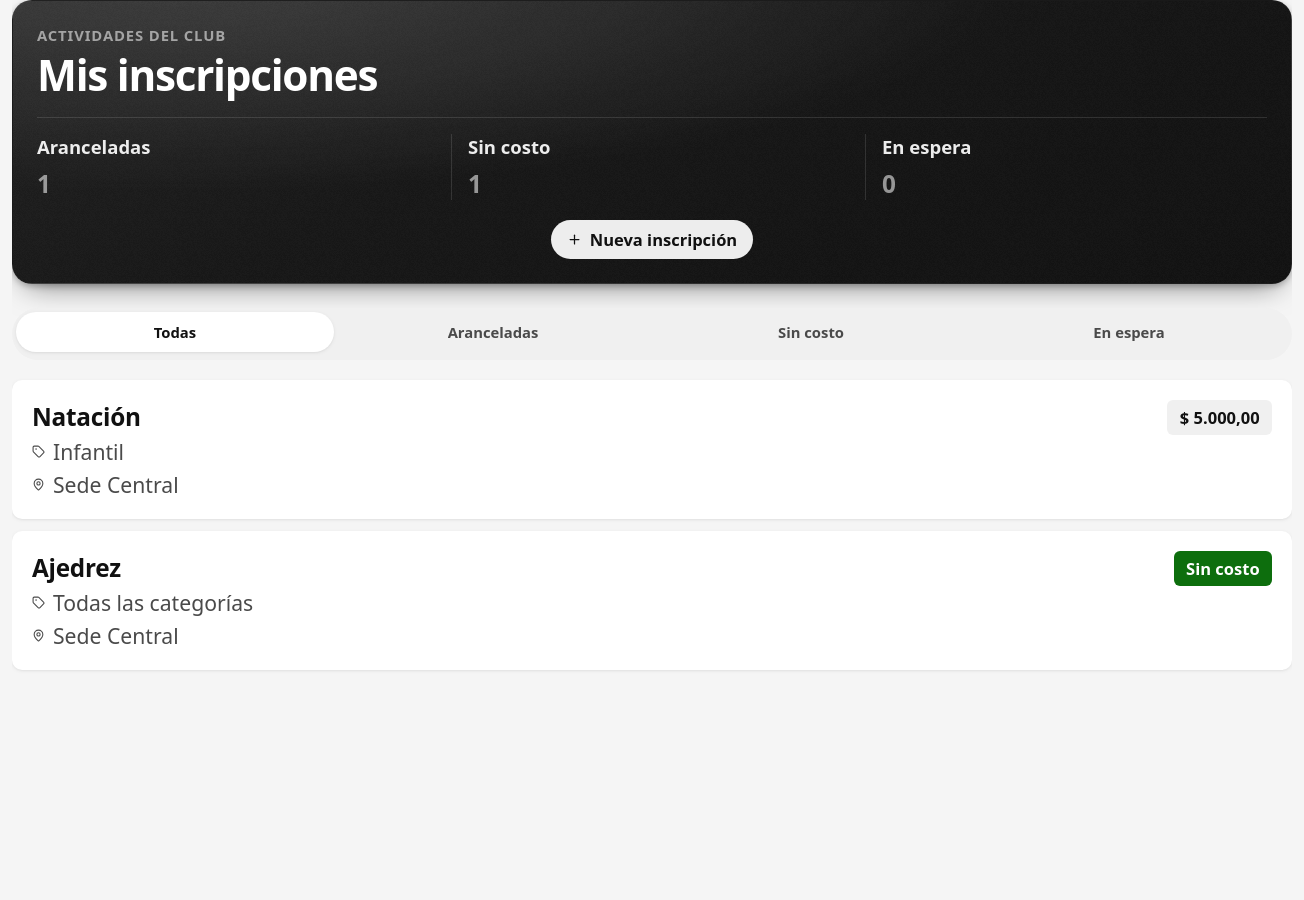
Test case: InscripcionesPage › el filtro "Aranceladas" oculta las inscripciones sin costo
Expected: the text "Natación" is shown, [32,400,141,433]
Click the radio button labelled "Aranceladas" at (493, 332), box [334,312,652,352]
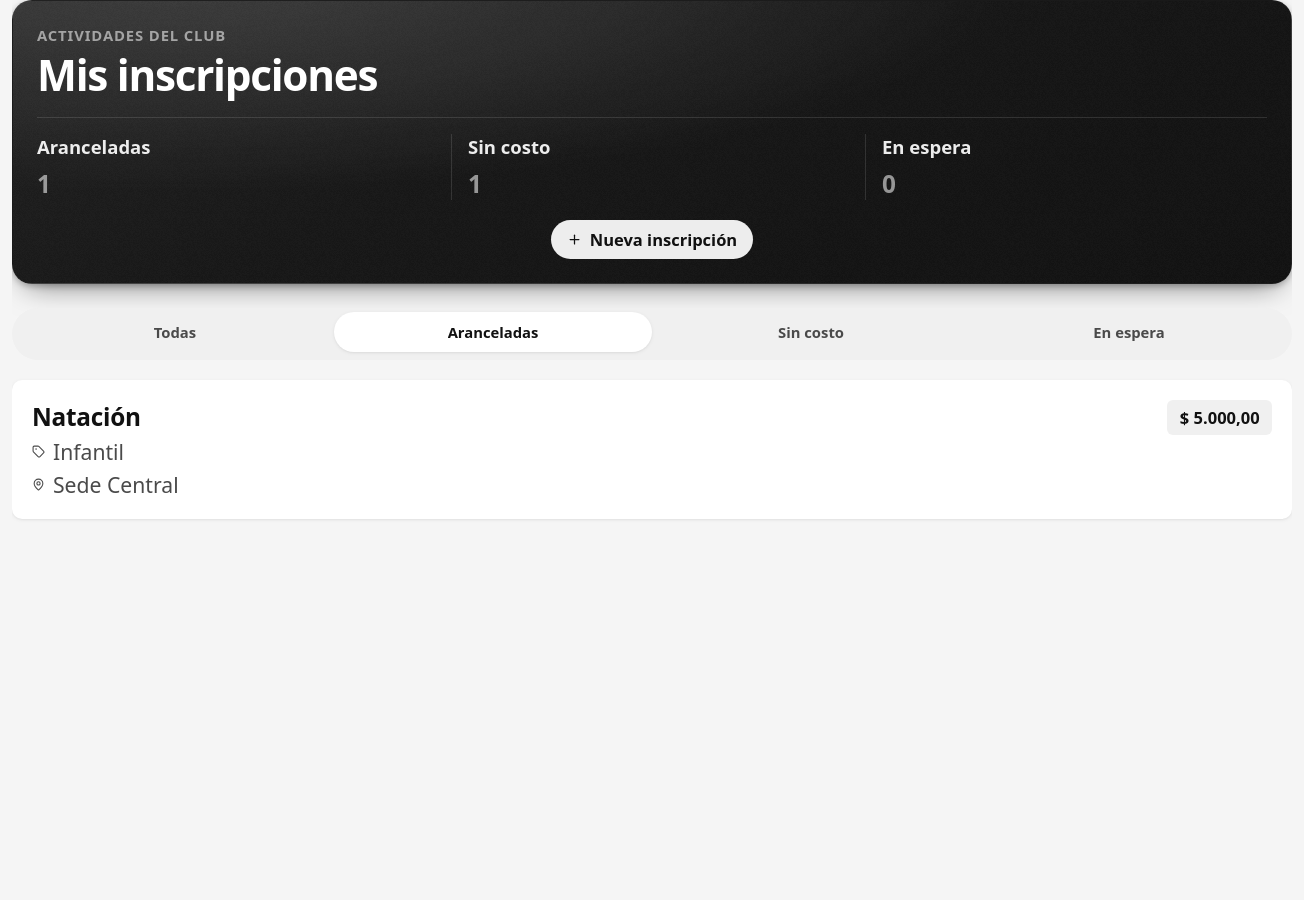
Expected: the text "Natación" is shown, [32,400,141,433]
Expected: the button "Ajedrez" is gone
